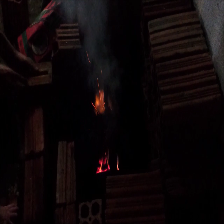fire_l: (92, 89, 105, 114), (96, 156, 110, 173), (116, 157, 119, 170)
